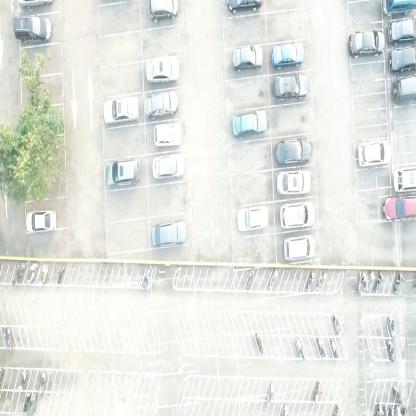car: (231, 108, 268, 140), (103, 95, 139, 126), (274, 137, 312, 166), (12, 16, 52, 43), (151, 219, 188, 248), (348, 29, 386, 57), (106, 157, 142, 186), (151, 152, 187, 181), (279, 202, 316, 229), (144, 89, 177, 119), (232, 43, 264, 73), (358, 139, 392, 167), (380, 195, 416, 221), (272, 41, 304, 70), (274, 74, 309, 100), (276, 170, 312, 195), (237, 204, 269, 232), (284, 234, 317, 261), (146, 57, 180, 83), (386, 17, 416, 44), (26, 209, 58, 234), (154, 122, 183, 148), (392, 74, 416, 104), (388, 46, 415, 72), (150, 0, 181, 22), (382, 0, 415, 19), (392, 166, 416, 192), (226, 0, 262, 13)
